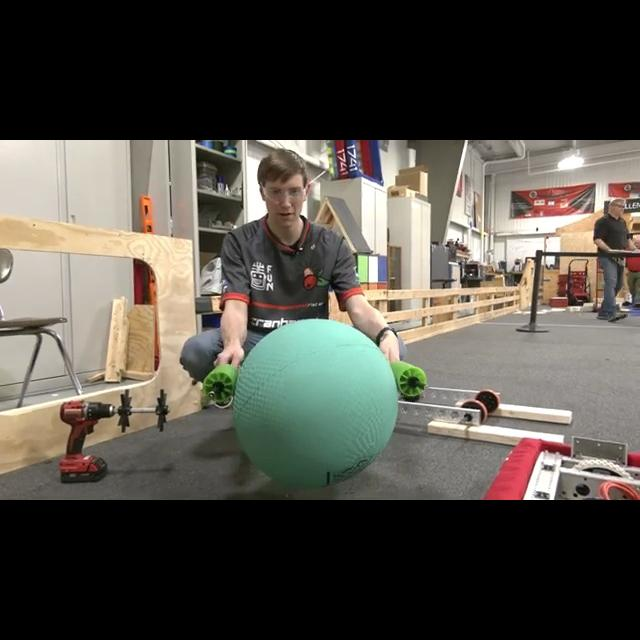ALGAE: (230, 316, 398, 488)
